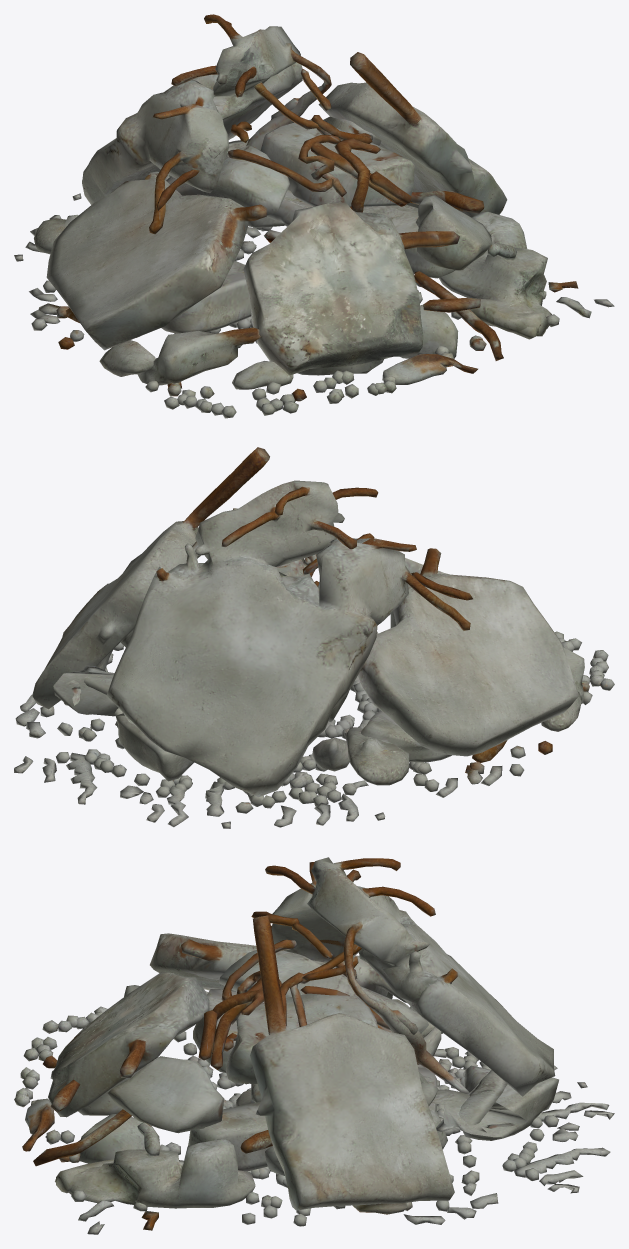
File: Meshy_AI_Ruins_of_Concrete_and_0517150203_texture.fbx
3 renders of one model, top to bottom at view 1: azimuth 30°, elevation 25°; view 2: azimuth 150°, elevation 25°; view 3: azimuth 270°, elevation 25°, orthographic.
Parts seen in each view (by area): view 1: Mesh_0; view 2: Mesh_0; view 3: Mesh_0.
Part boxes in pixels (x1=…): Mesh_0: x1=14, y1=14, x2=614, y2=418; Mesh_0: x1=14, y1=447, x2=614, y2=828; Mesh_0: x1=14, y1=857, x2=614, y2=1234.
Size of the model in its own units: 158 by 83.37 by 173.
Materials: 1 (1 with a texture image).
